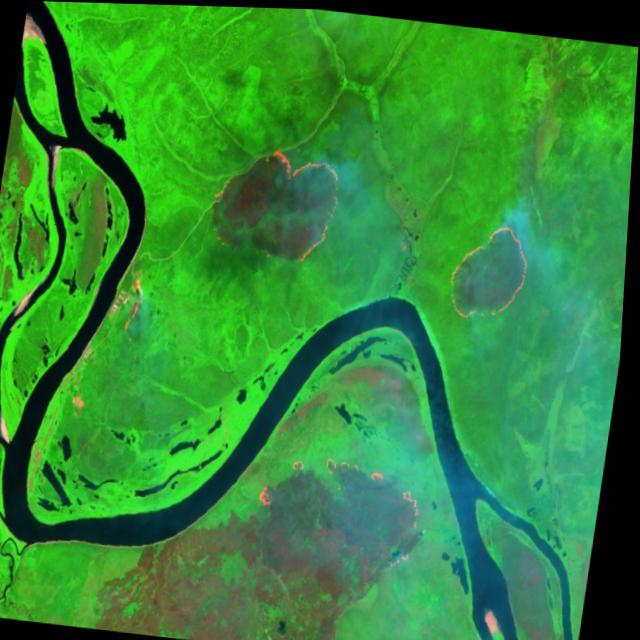fire: (253, 444, 442, 569), (203, 139, 347, 269), (446, 212, 539, 325), (121, 266, 150, 345)
